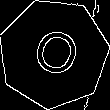O_S: (25, 22, 83, 85)
